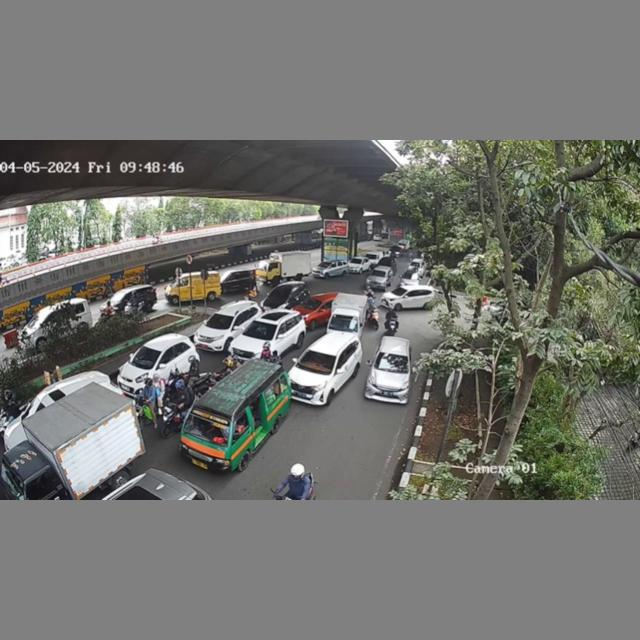windshield: (185, 407, 232, 448), (297, 349, 336, 372), (373, 353, 411, 373), (130, 346, 162, 369), (246, 321, 275, 341), (330, 314, 358, 331), (206, 314, 234, 330)
